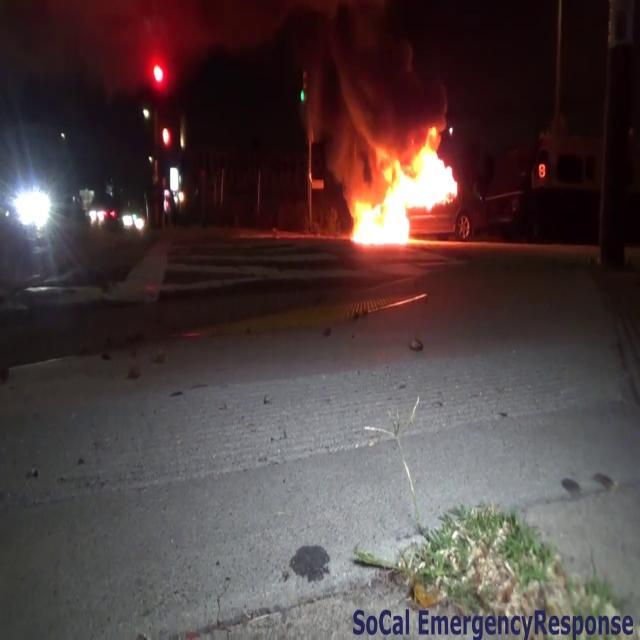Fire: (343, 120, 466, 245)
Smoke: (308, 0, 442, 157)
